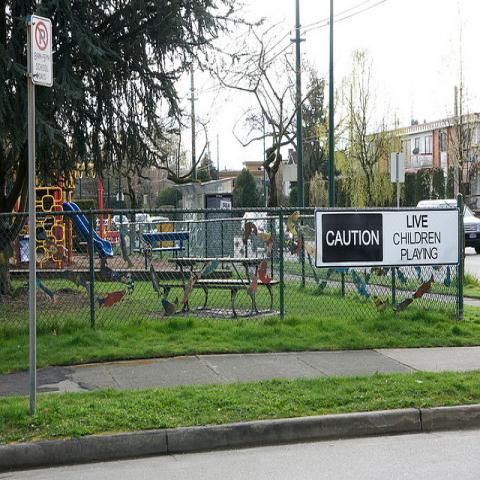car: (417, 199, 479, 256), (250, 216, 296, 253), (142, 216, 170, 234), (112, 215, 130, 231), (129, 213, 150, 224)
